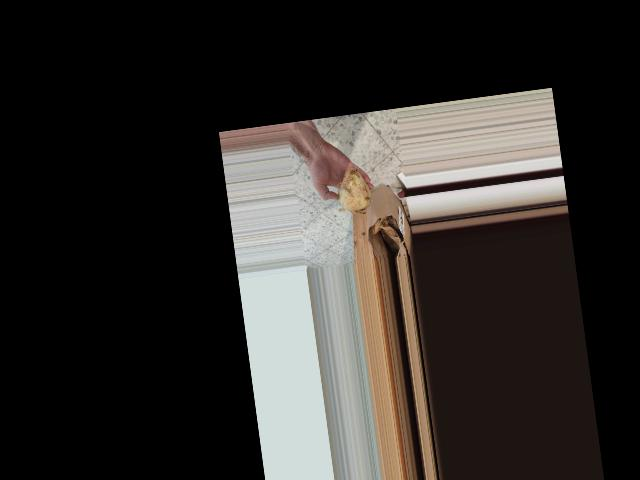onion: (327, 159, 376, 219)
